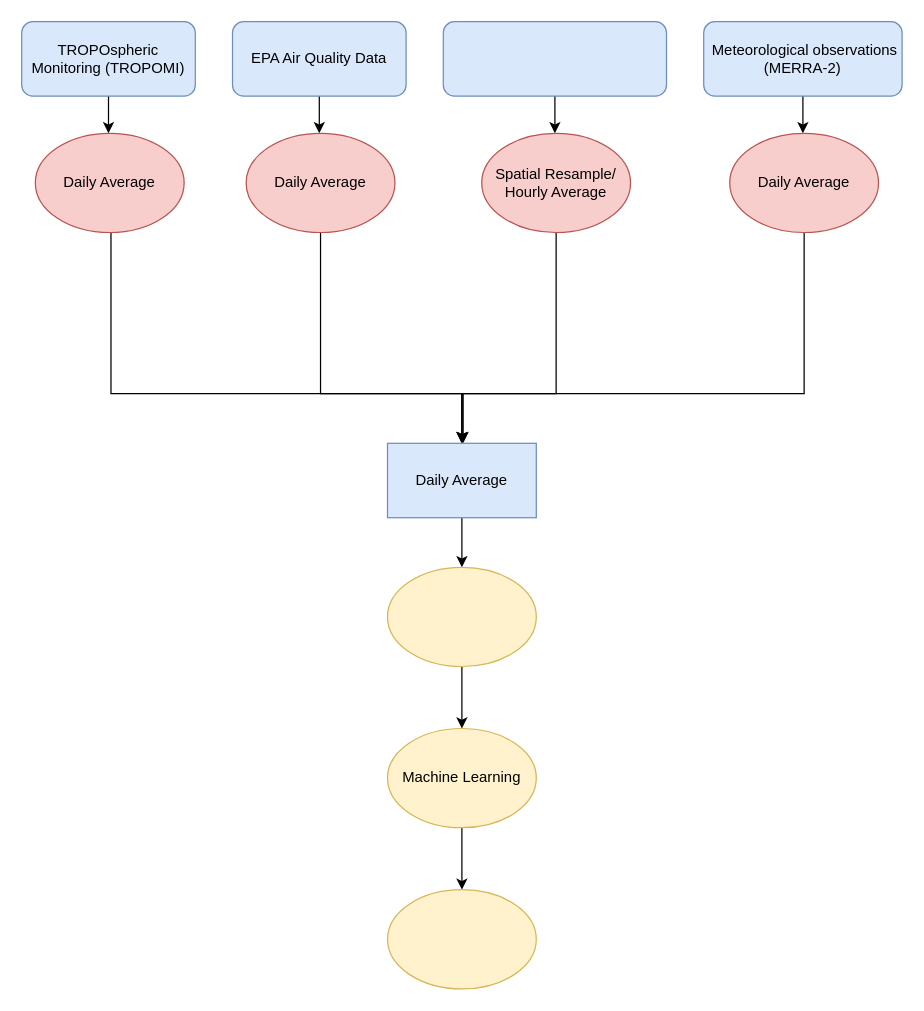
This 924x1011 diagram has some shape labels left out. The box of each missing label's shape, as (x1, y1, x2, y2) in pixels:
Machine Learning Model Input: (386, 888, 536, 989)
Moderate Resolution Imaging Spectroradiometer (MODIS)/MCD19A2: (442, 20, 666, 96)
Reshaping / Scaling: (386, 566, 536, 666)
